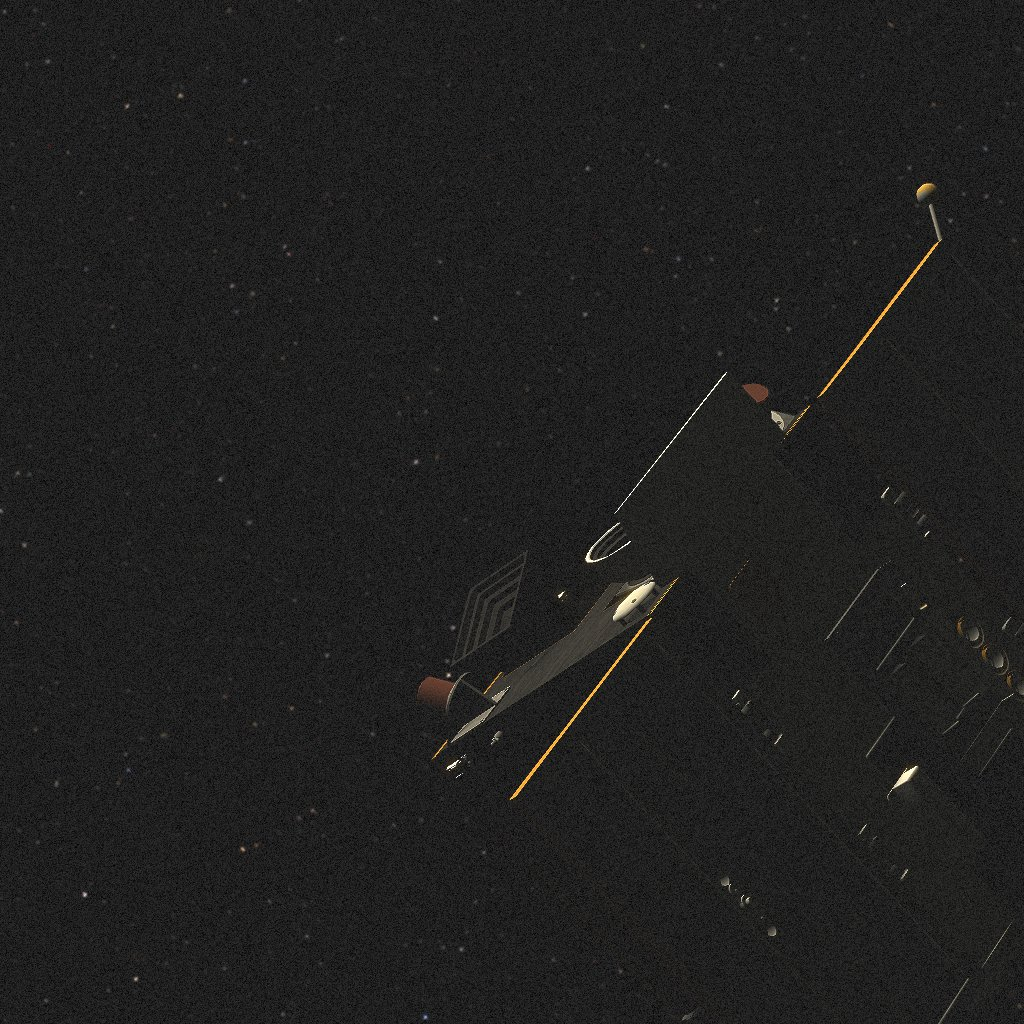proba_2: (407, 174, 1012, 1005)
